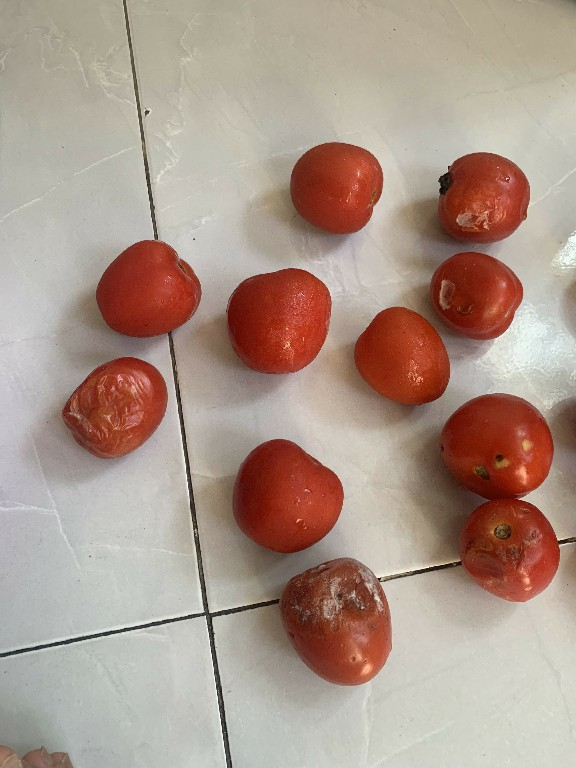NG: (279, 554, 402, 688), (447, 493, 564, 602), (63, 348, 173, 461), (440, 391, 554, 495), (429, 148, 533, 246), (426, 246, 524, 343)
OK: (229, 433, 347, 561), (218, 260, 332, 380), (92, 234, 205, 342), (280, 136, 385, 240), (353, 302, 451, 404)
